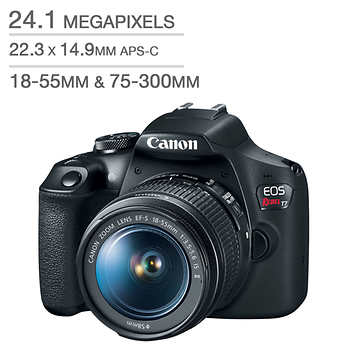kamera: (34, 101, 312, 347)
